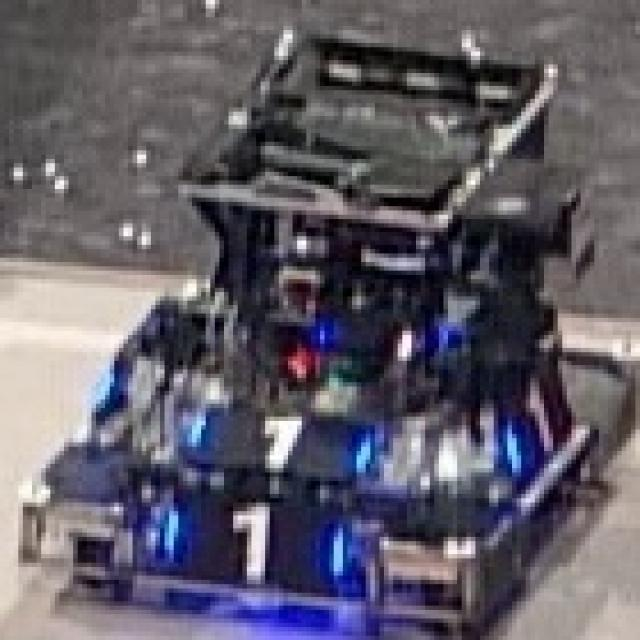B1: (151, 484, 370, 586), (167, 391, 386, 468), (484, 352, 567, 481)
